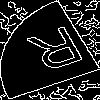R: (25, 25, 94, 81)
